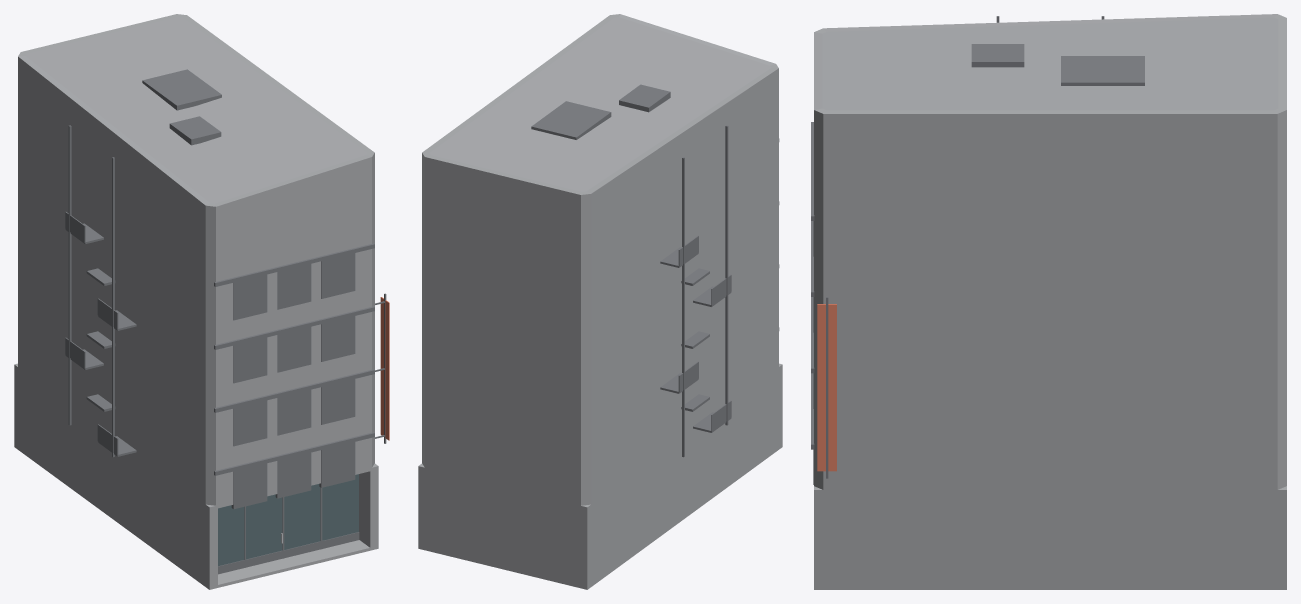
The model's file is pencil_building_a.glb.
3 renders of one model, left to right at view 1: azimuth 30°, elevation 25°; view 2: azimuth 150°, elevation 25°; view 3: azimuth 270°, elevation 25°, orthographic. The views are drawn at different scales.
Visible parts, largest first — view 1: pencil_building_a; view 2: pencil_building_a; view 3: pencil_building_a.
Boxes of the visible parts, <box> form: pencil_building_a: <box>14,14,389,589</box>; pencil_building_a: <box>418,14,782,589</box>; pencil_building_a: <box>811,14,1286,589</box>.
Bounding box in the file's own units: 10.81 × 20 × 18.11.
